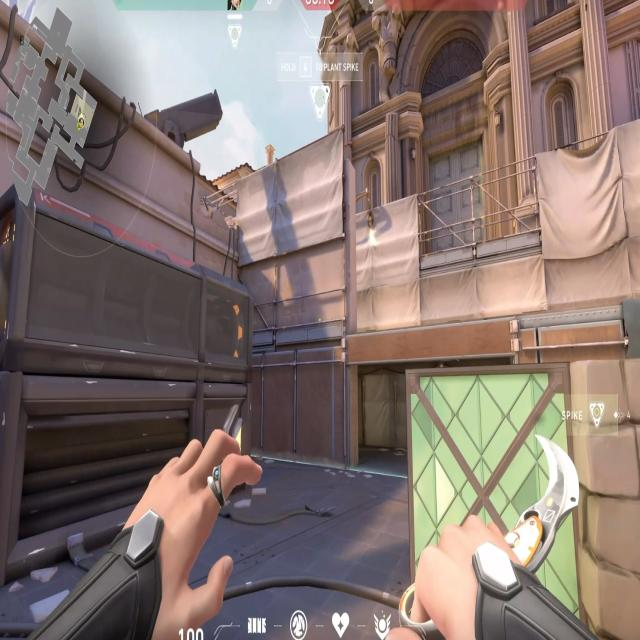A_Heaven_Wall: (236, 152, 358, 337)
A_Hell: (328, 344, 545, 486)
A_Site_Box: (405, 349, 640, 640)
